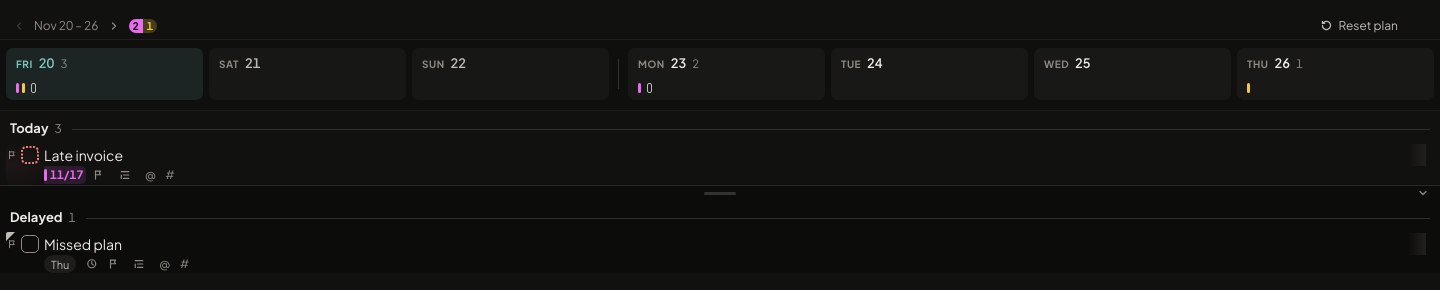
Test: the Planner — portrait › alone in its cell, the week arrows sit in the top line and the strip is all tiles
Expected: the button "Next week" is not shown
Click the button named "Next week" at (114, 26), box [104,16,122,36]
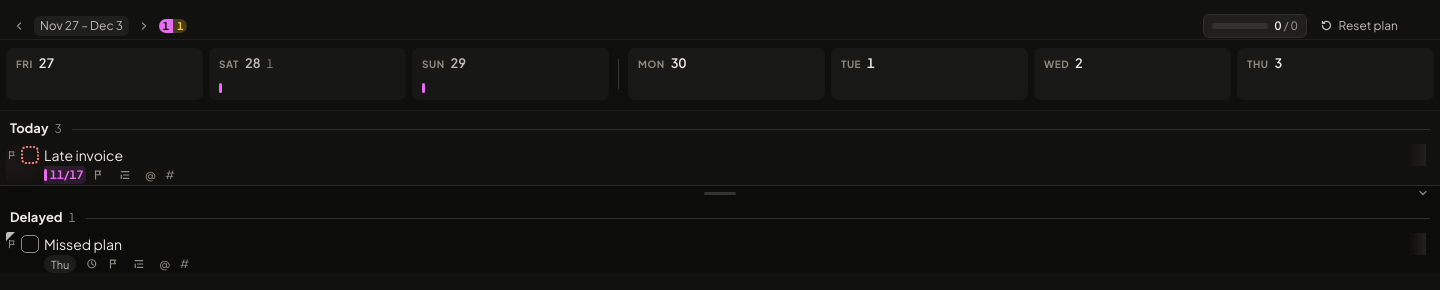
Now the element that starts with "Nov 27 – Dec 3" is shown, box [34,16,129,36]
